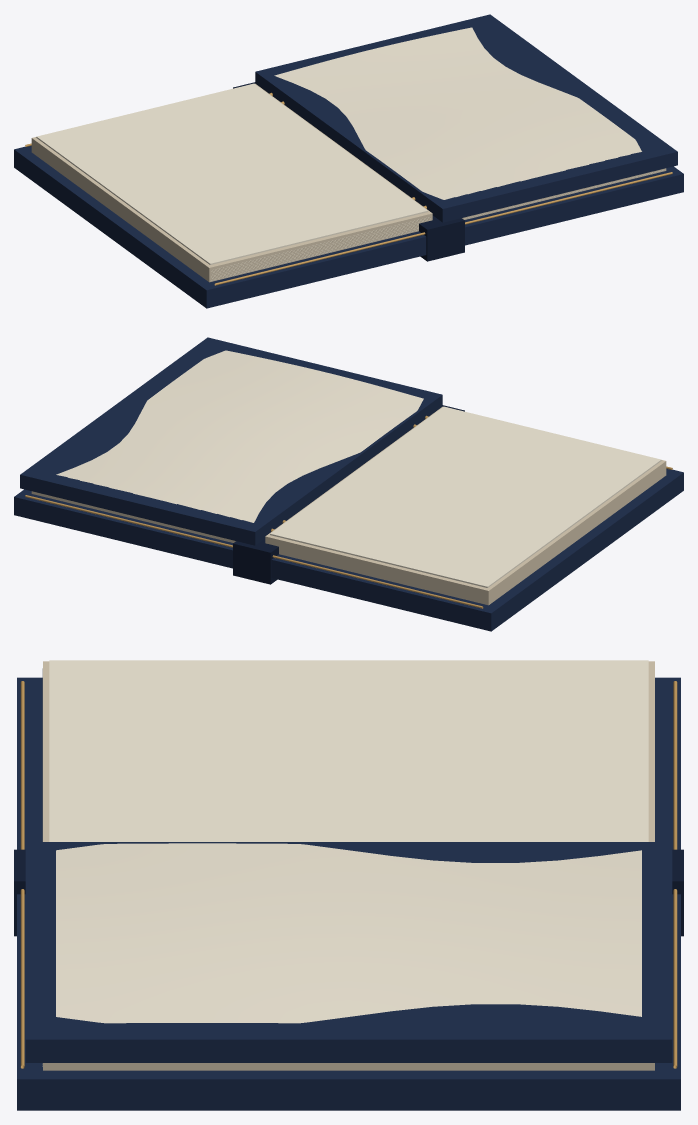
The model's file is Victoria_Libro3D.glb.
The picture shows the model from 3 angles, top to bottom: view 1: azimuth 30°, elevation 25°; view 2: azimuth 150°, elevation 25°; view 3: azimuth 270°, elevation 25°; orthographic projection. The views are drawn at different scales.
Visible parts, largest first — view 1: Hoja de guarda -1, PAPEL_08, Tapa móvil de cuero, Cubierta de cuero -1, Cantos del bloque -1, Cubierta de cuero 1, Lomo redondeado, Cantos del bloque 1, Filete inferior -1, Filete inferior 1; view 2: Hoja de guarda -1, PAPEL_08, Tapa móvil de cuero, Cubierta de cuero -1, Cantos del bloque -1, Cubierta de cuero 1, Lomo redondeado, Cantos del bloque 1, Filete superior -1, Filete superior 1; view 3: Hoja de guarda -1, PAPEL_08, Tapa móvil de cuero, Cubierta de cuero 1, Cubierta de cuero -1, Cantos del bloque 1, Cantos del bloque -1, Lomo redondeado, Filete inferior 1, Filete superior 1, Filete inferior -1, Filete superior -1.
Boxes of the visible parts, x1,y1,x2,y2 form: Hoja de guarda -1: (36,83,427,264); PAPEL_08: (274,27,641,199); Tapa móvil de cuero: (255,14,677,222); Cubierta de cuero -1: (14,146,426,308); Cantos del bloque -1: (31,83,432,282); Cubierta de cuero 1: (464,166,683,245); Lomo redondeado: (233,82,464,261); Cantos del bloque 1: (462,168,666,219); Filete inferior -1: (214,232,425,285); Filete inferior 1: (465,172,672,224); Hoja de guarda -1: (270,406,661,587); PAPEL_08: (56,350,423,522); Tapa móvil de cuero: (20,337,442,545); Cubierta de cuero -1: (271,469,683,631); Cantos del bloque -1: (265,406,666,605); Cubierta de cuero 1: (14,489,233,568); Lomo redondeado: (233,405,464,584); Cantos del bloque 1: (31,491,235,542); Filete superior -1: (272,555,483,608); Filete superior 1: (25,495,232,547); Hoja de guarda -1: (49,660,648,841); PAPEL_08: (56,843,641,1023); Tapa móvil de cuero: (25,842,672,1062); Cubierta de cuero 1: (17,894,680,1110); Cubierta de cuero -1: (17,677,680,849); Cantos del bloque 1: (43,1063,654,1070); Cantos del bloque -1: (43,661,654,841); Lomo redondeado: (14,849,683,936); Filete inferior 1: (20,889,24,1068); Filete superior 1: (673,889,677,1068); Filete inferior -1: (20,681,24,849); Filete superior -1: (673,681,677,849).
Size of the model in its own units: 3.29 by 0.3199 by 2.32.
